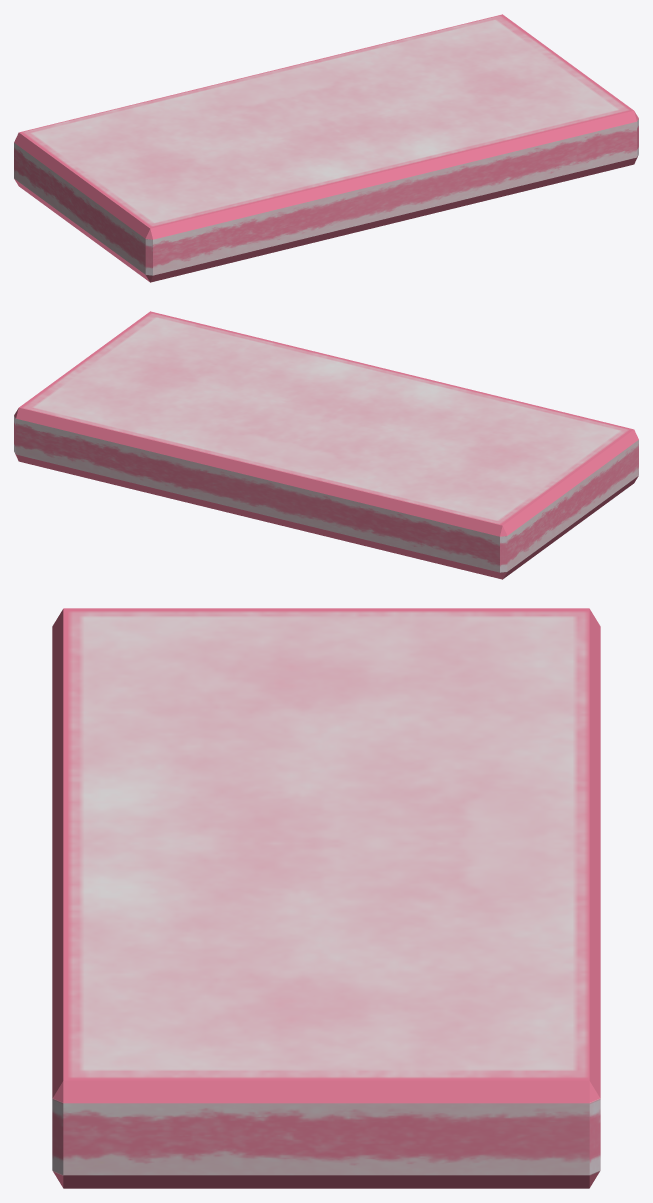
File: Plataform.fbx
3 views of the same model, one above another, from view 1: azimuth 30°, elevation 25°; view 2: azimuth 150°, elevation 25°; view 3: azimuth 270°, elevation 25° (orthographic). The views are drawn at different scales.
Parts seen in each view (by area): view 1: Plataform; view 2: Plataform; view 3: Plataform.
Part boxes in pixels (x1,y1,x2,y2): Plataform: [14, 14, 638, 282]; Plataform: [14, 311, 638, 579]; Plataform: [52, 608, 600, 1188].
Size of the model in its own units: 486 by 50.77 by 234.
Materials: 1 (1 with a texture image).
